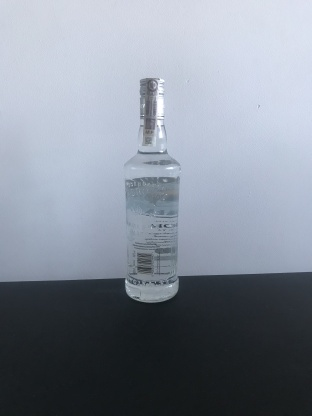nakretka: (137, 74, 166, 122)
